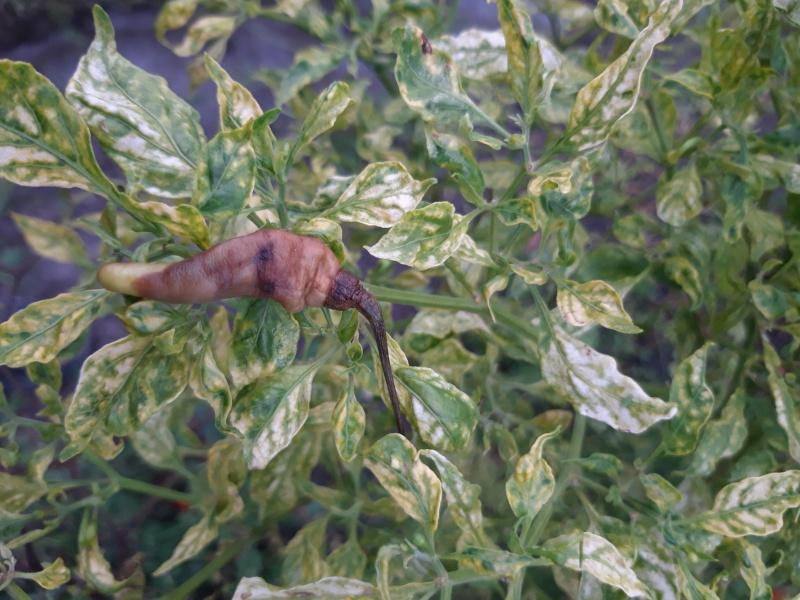antraknosa: (96, 227, 345, 314)
